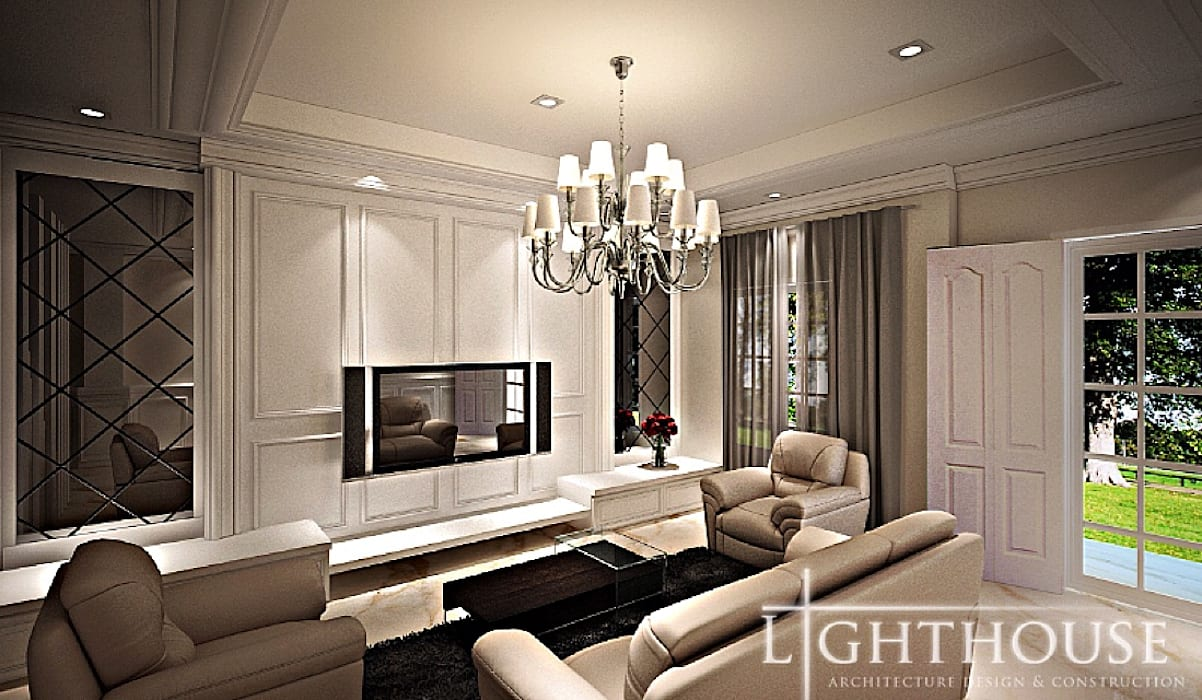sova: (443, 518, 993, 700), (34, 543, 361, 700), (707, 429, 869, 546)
